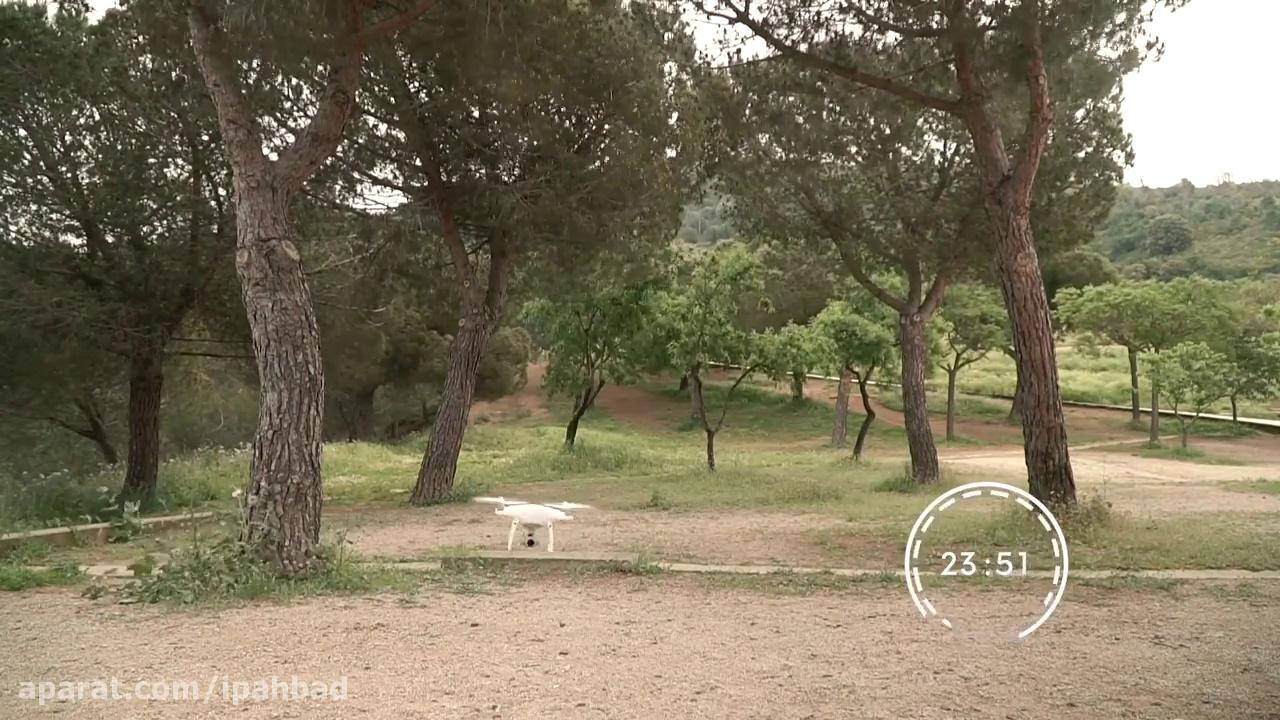drone: (469, 491, 597, 555)
